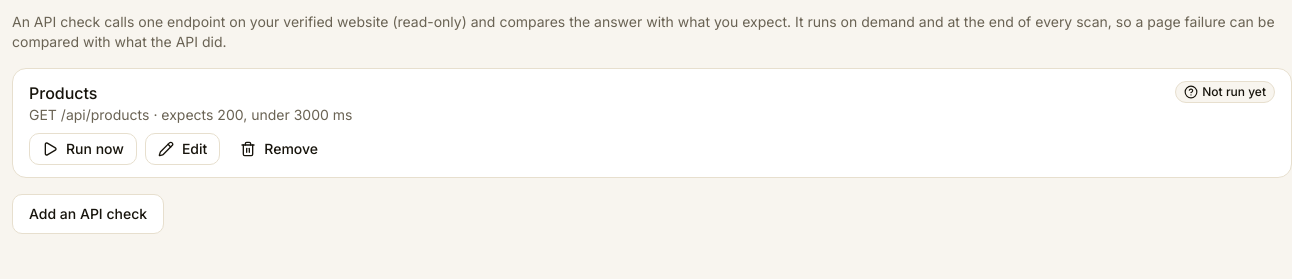
Test case: ApiChecksCard › runs a check on demand and shows the verdict
The image size is (1292, 279).
Click the button with aria-label "Run Products now": (83, 149) [29,133,137,165]
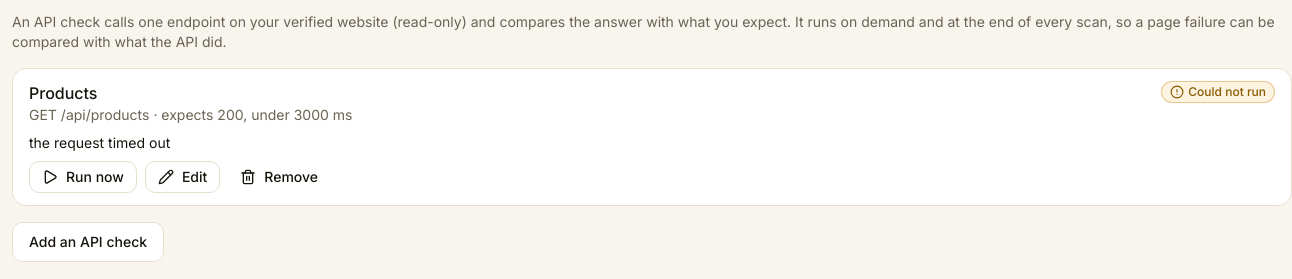
Check: the text "Could not run" is shown, box [1161,81,1275,103]
Check: the message reads "the request timed out", box [29,134,170,151]
